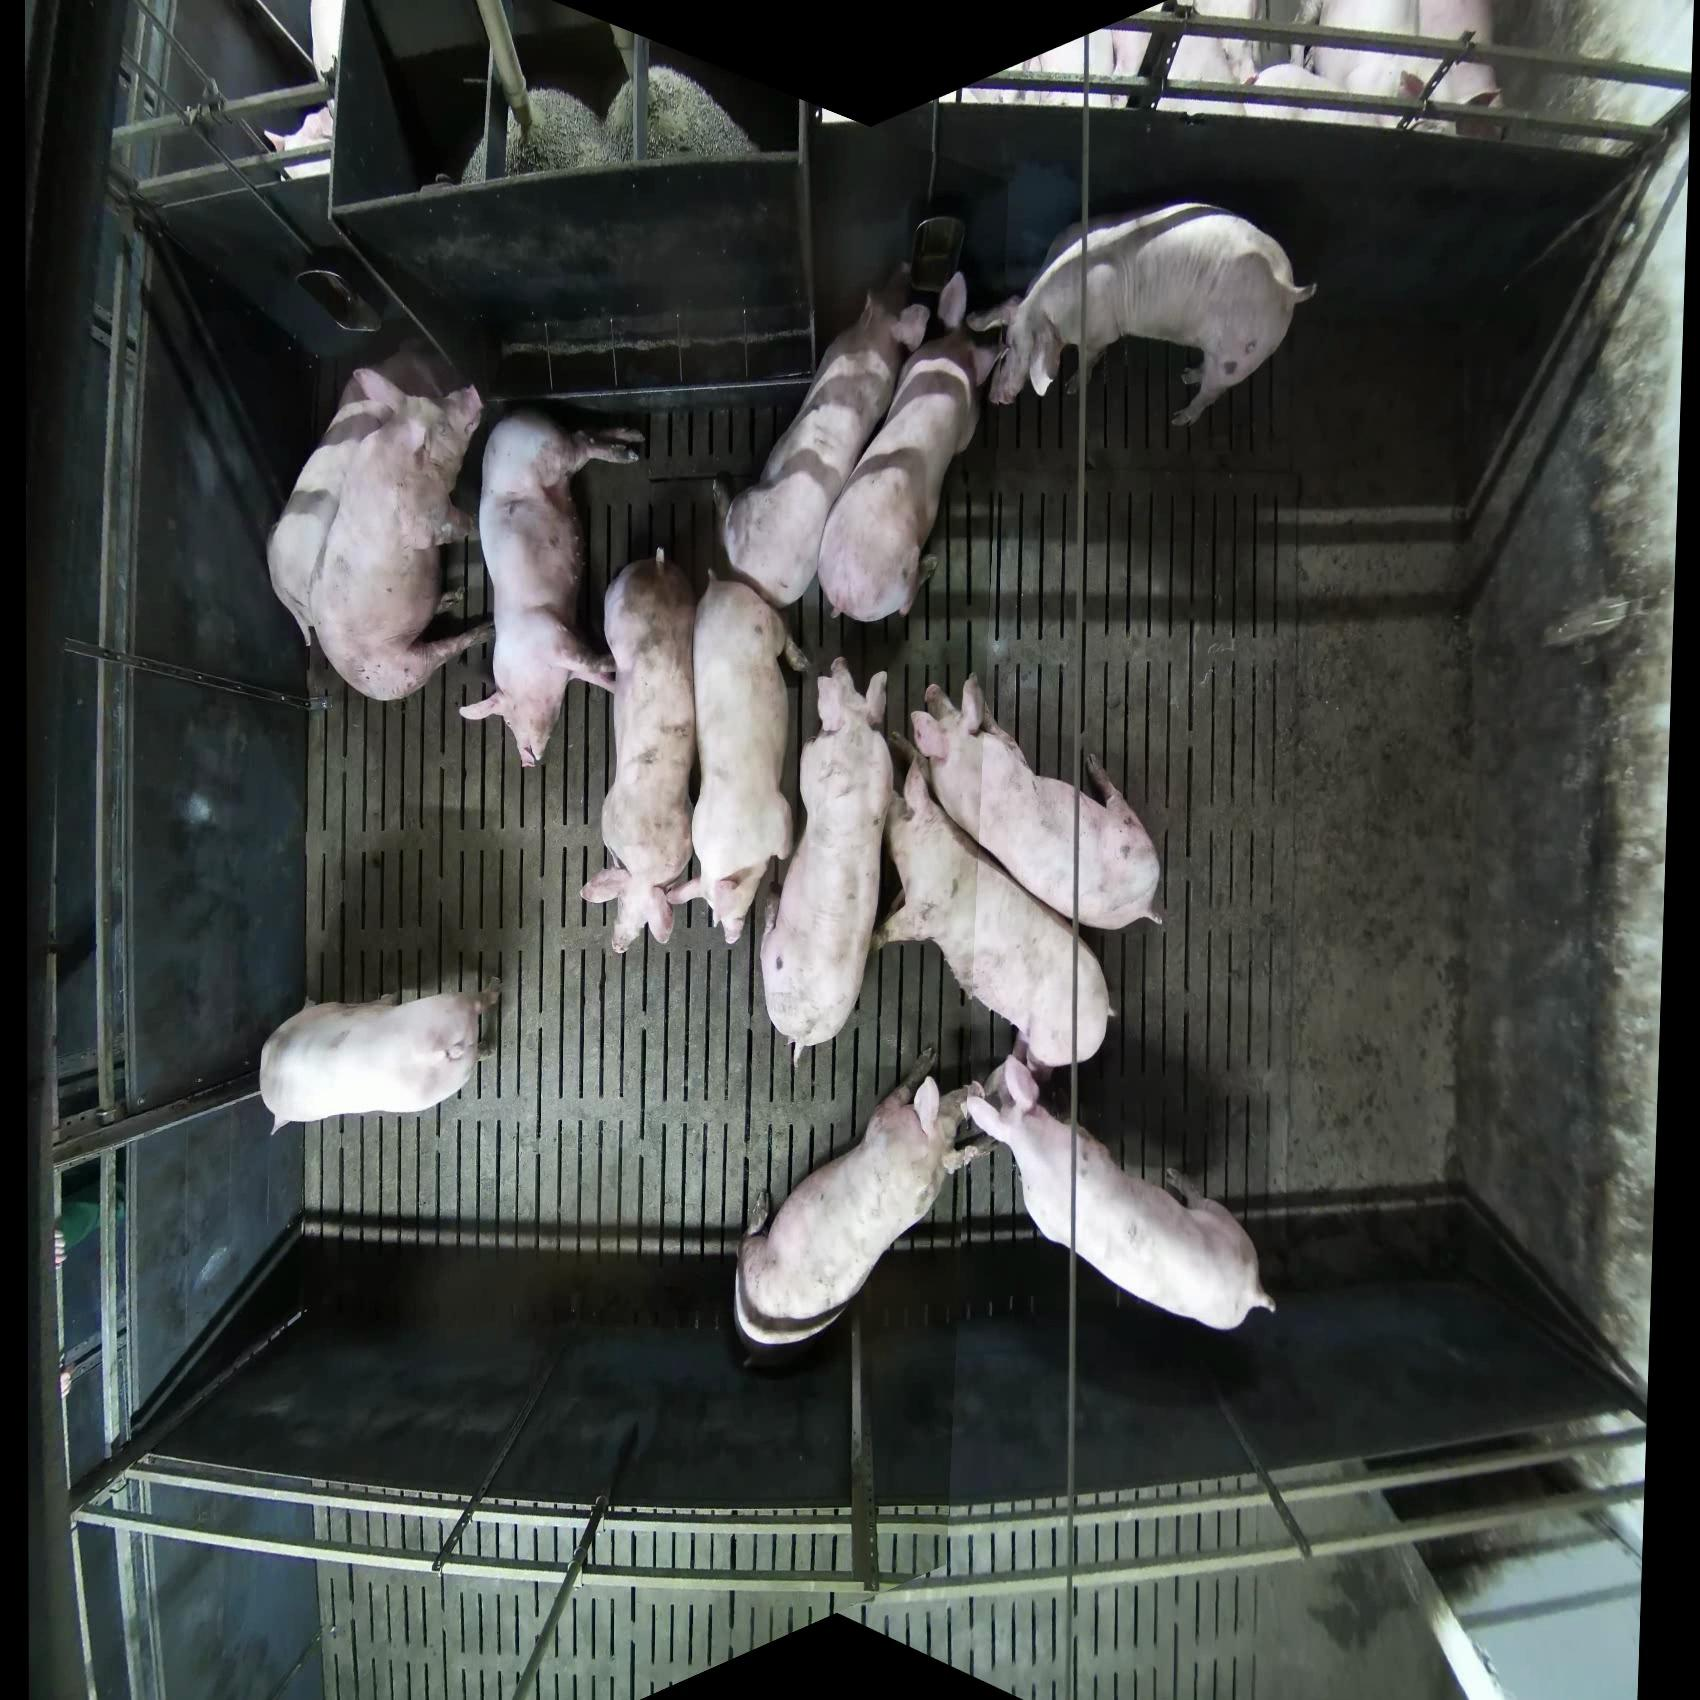pig: (961, 1045, 1280, 1333), (971, 199, 1319, 430), (266, 358, 492, 704), (873, 746, 1113, 1070), (732, 1055, 987, 1350), (718, 262, 931, 609), (458, 403, 646, 771), (816, 269, 1007, 624), (908, 673, 1168, 933), (757, 657, 897, 1068), (666, 568, 811, 947), (579, 546, 697, 957), (258, 981, 501, 1136), (1242, 2, 1505, 139), (602, 64, 761, 165), (1414, 2, 1505, 140), (504, 87, 620, 177)
